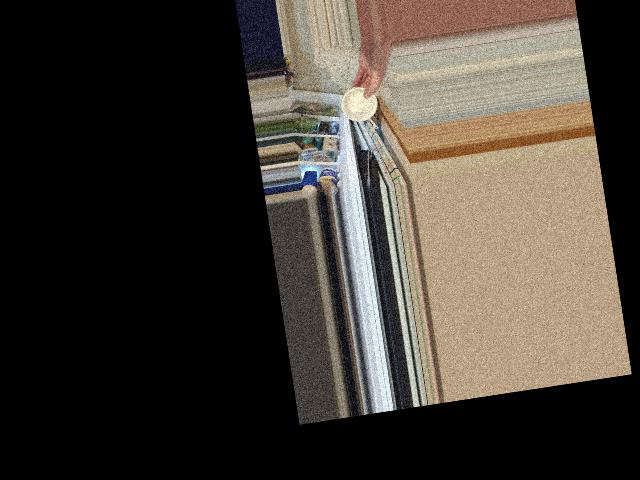cotage: (340, 86, 378, 123)
